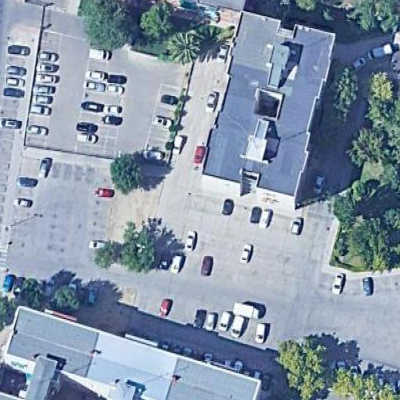tree: (278, 336, 333, 399), (82, 1, 135, 51), (337, 361, 398, 400), (345, 122, 395, 165), (120, 222, 160, 273), (349, 225, 394, 269), (107, 150, 149, 194), (348, 1, 400, 34), (137, 2, 174, 42), (333, 189, 368, 230), (331, 66, 361, 113), (168, 28, 204, 66), (52, 282, 85, 315), (366, 68, 391, 104), (90, 238, 121, 266)
